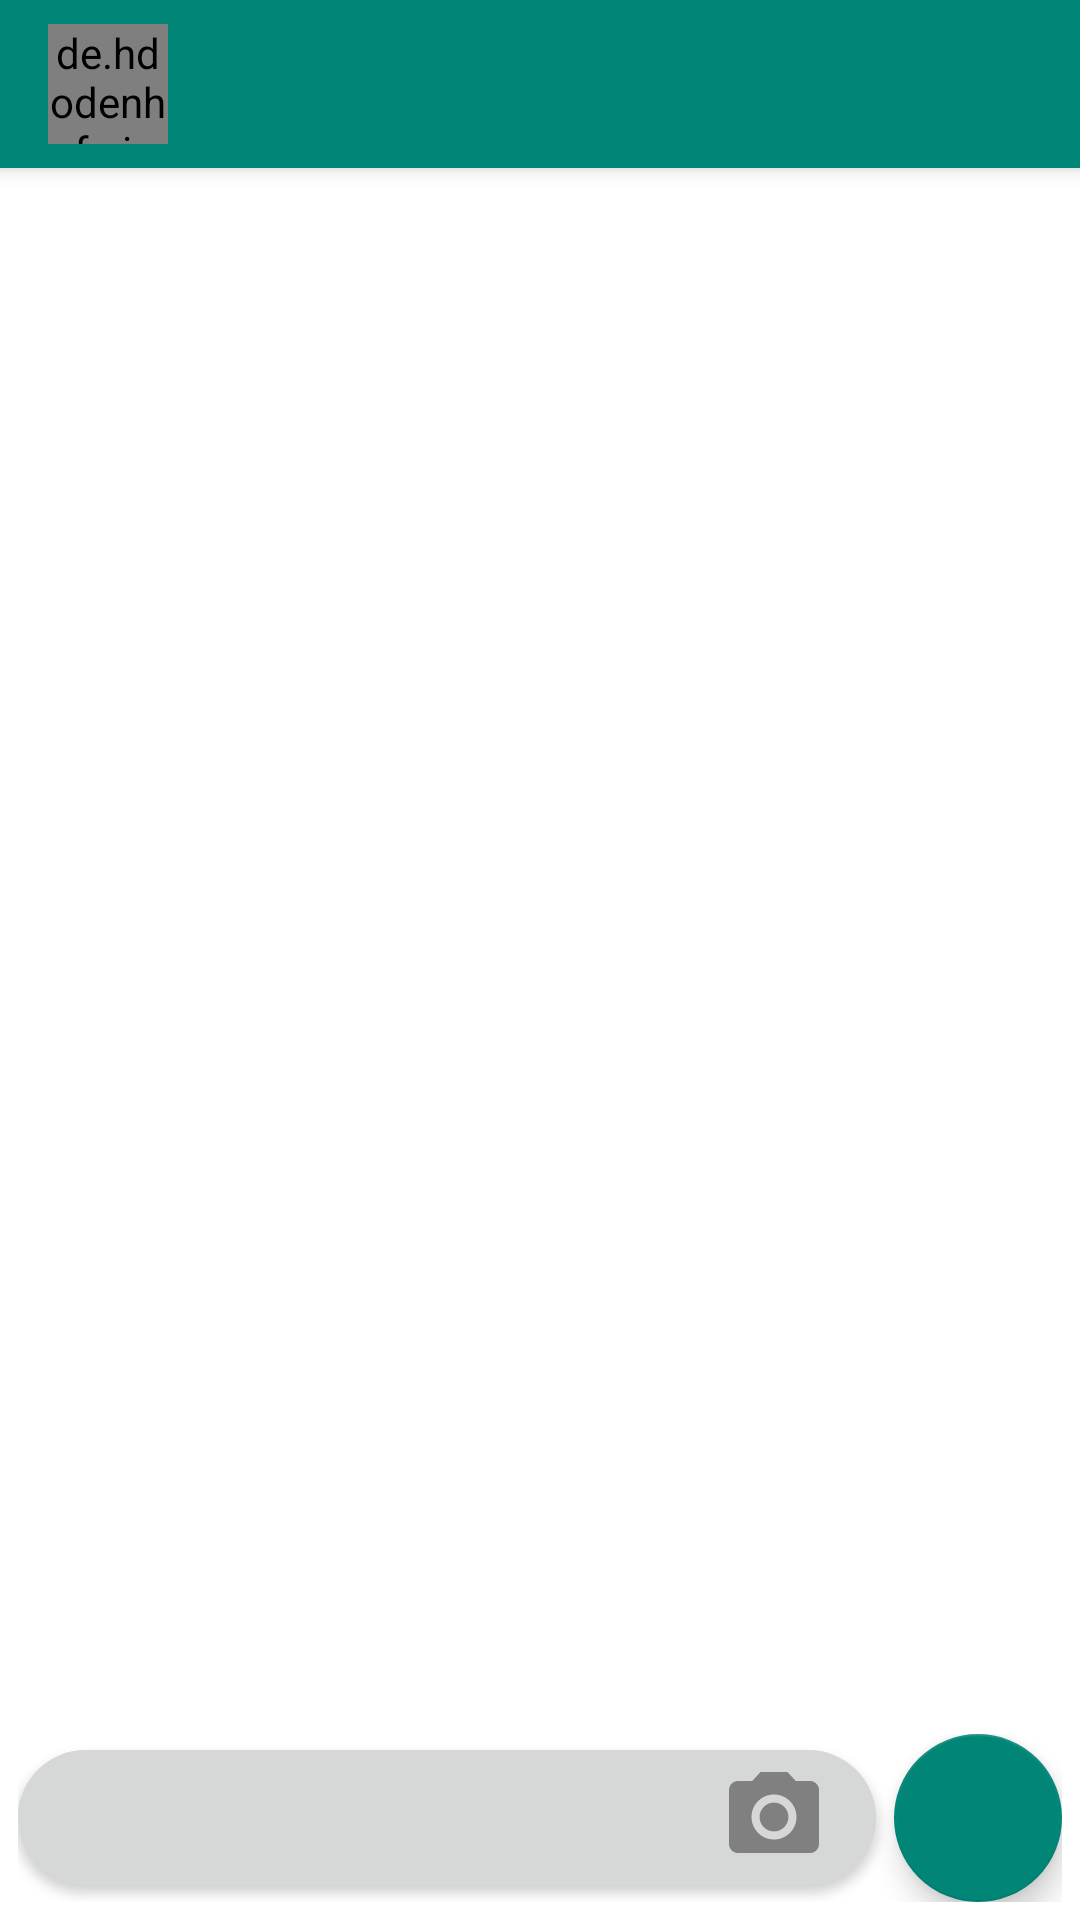

Locate icon controls on the screen. Image size 1080*1920, boxes as (x1, y1, x2, y2).
camera chat: (729, 1772, 819, 1853)
